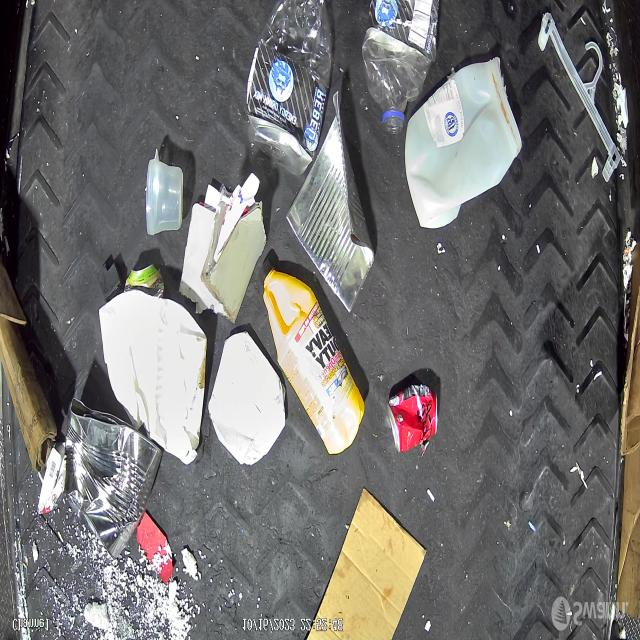can: (284, 85, 376, 314), (54, 391, 157, 554), (391, 381, 442, 456), (128, 265, 164, 295)
milk_jug: (404, 55, 522, 228)
non_white_jug: (262, 266, 366, 457)
plastic_bottle: (246, 0, 332, 178), (362, 0, 438, 134)
